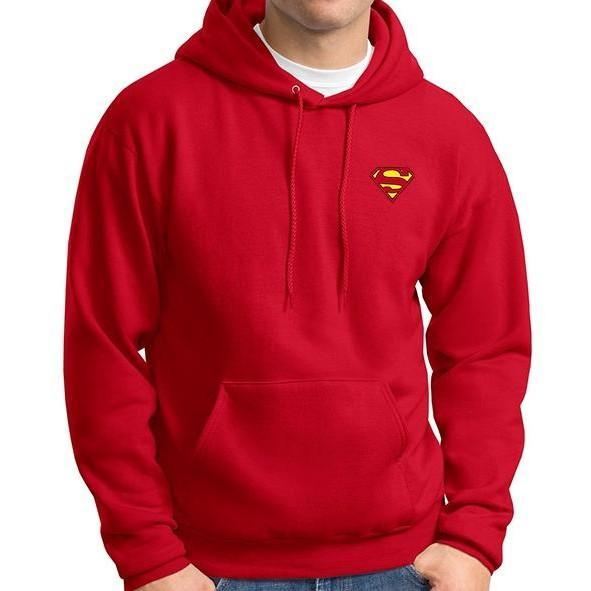sweater: (52, 0, 547, 579)
